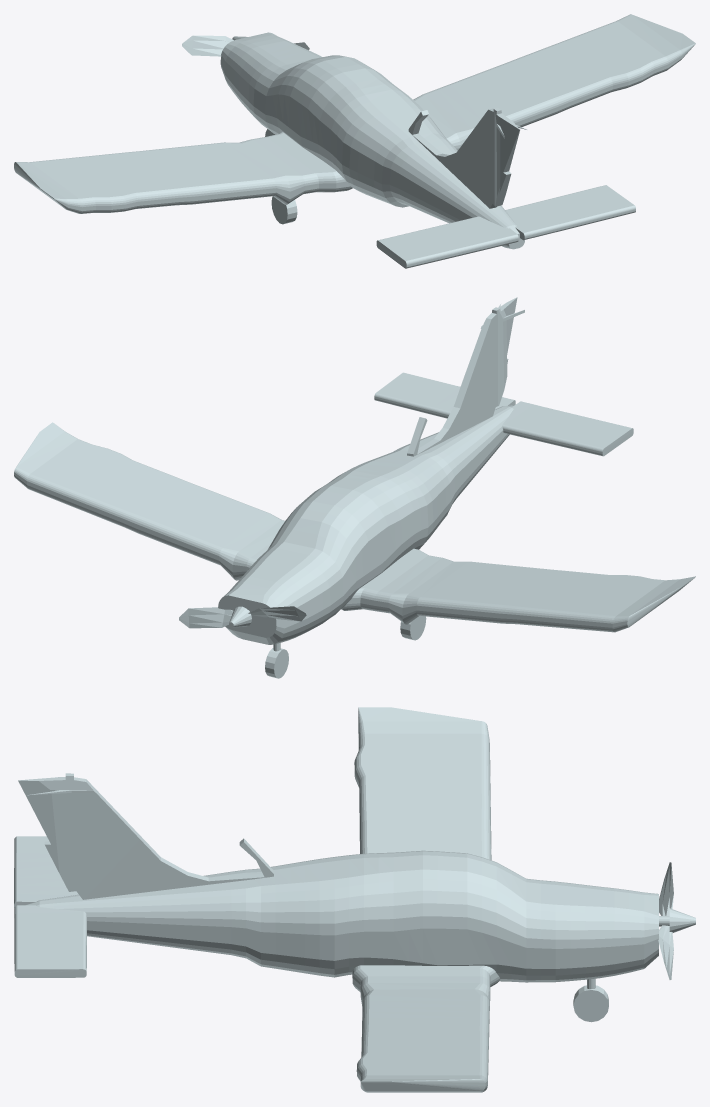
3 views of the same model, one above another, from view 1: azimuth 30°, elevation 25°; view 2: azimuth 150°, elevation 25°; view 3: azimuth 270°, elevation 25° (orthographic). The views are drawn at different scales.
Parts seen in each view (by area): view 1: Aircraft visual hull, Rotor 1791682398196-mta8cos7x6, Landing gear; view 2: Aircraft visual hull, Rotor 1791682398196-mta8cos7x6, Landing gear; view 3: Aircraft visual hull, Rotor 1791682398196-mta8cos7x6, Landing gear.
Part boxes in pixels (x1,y1,x2,y2): Aircraft visual hull: [14, 14, 695, 268]; Rotor 1791682398196-mta8cos7x6: [182, 35, 309, 56]; Landing gear: [265, 129, 297, 224]; Aircraft visual hull: [14, 297, 695, 644]; Rotor 1791682398196-mta8cos7x6: [179, 606, 306, 628]; Landing gear: [265, 616, 426, 678]; Aircraft visual hull: [14, 707, 658, 1092]; Rotor 1791682398196-mta8cos7x6: [658, 862, 695, 979]; Landing gear: [573, 978, 608, 1022].
Size of the model in its own units: 9.86 by 3.03 by 7.64.
